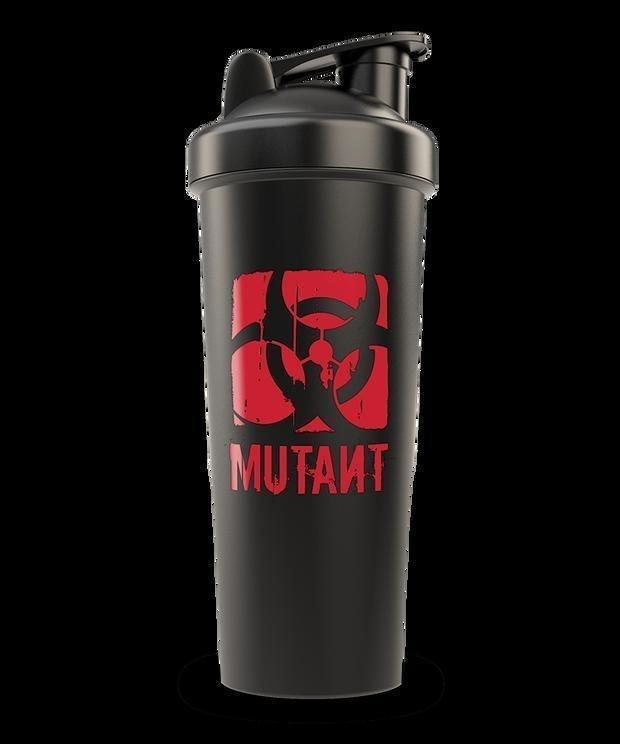gym bottle: (185, 28, 440, 704)
